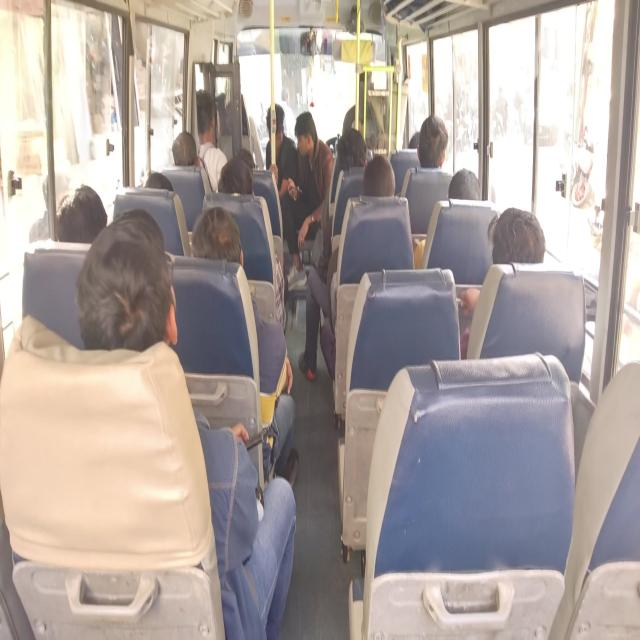person: (91, 230, 167, 336), (45, 180, 105, 251), (194, 208, 232, 268), (498, 200, 537, 254), (224, 158, 263, 209), (189, 77, 219, 134), (170, 129, 205, 174), (420, 122, 449, 174), (263, 106, 288, 154), (366, 149, 392, 189), (236, 142, 265, 173), (291, 115, 312, 154), (337, 139, 361, 169), (146, 165, 169, 196), (452, 165, 478, 192), (409, 135, 422, 152)
